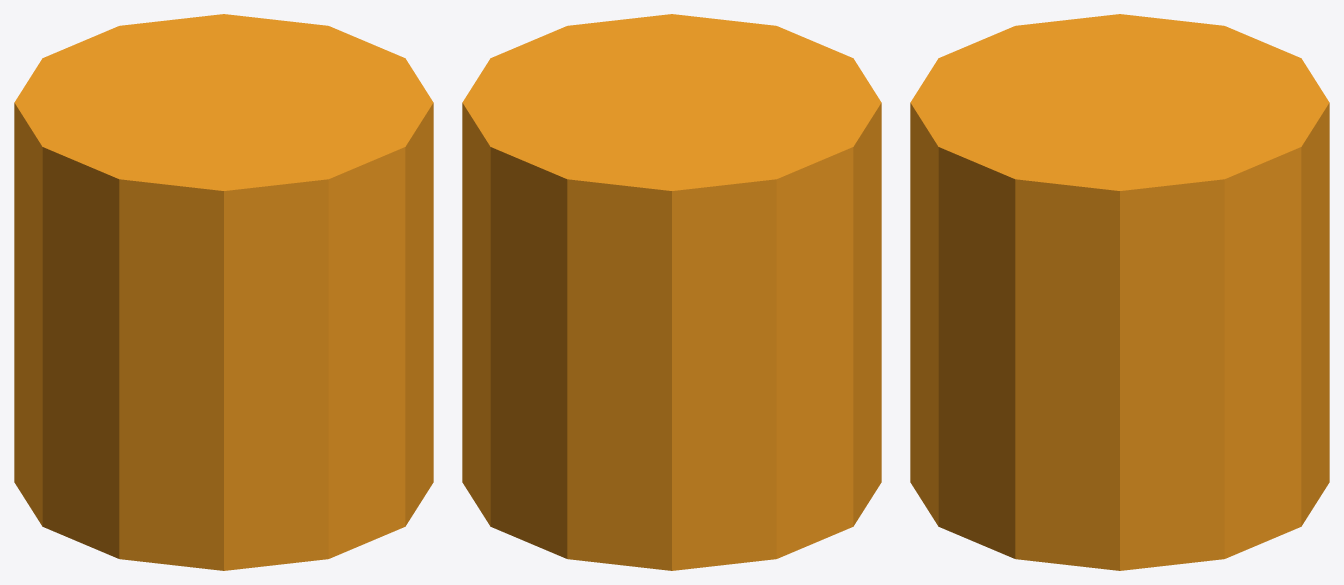
File: SM_Primitive_Cylander_03.fbx
3 renders of one model, left to right at view 1: azimuth 30°, elevation 25°; view 2: azimuth 150°, elevation 25°; view 3: azimuth 270°, elevation 25°, orthographic.
Parts seen in each view (by area): view 1: SM_Primitive_Cylander_03; view 2: SM_Primitive_Cylander_03; view 3: SM_Primitive_Cylander_03.
Boxes of the visible parts, left/top/right/bottom form: SM_Primitive_Cylander_03: left=14, top=14, right=433, bottom=570; SM_Primitive_Cylander_03: left=462, top=14, right=881, bottom=570; SM_Primitive_Cylander_03: left=910, top=14, right=1329, bottom=570.
Size of the model in its own units: 100 by 100 by 100.
